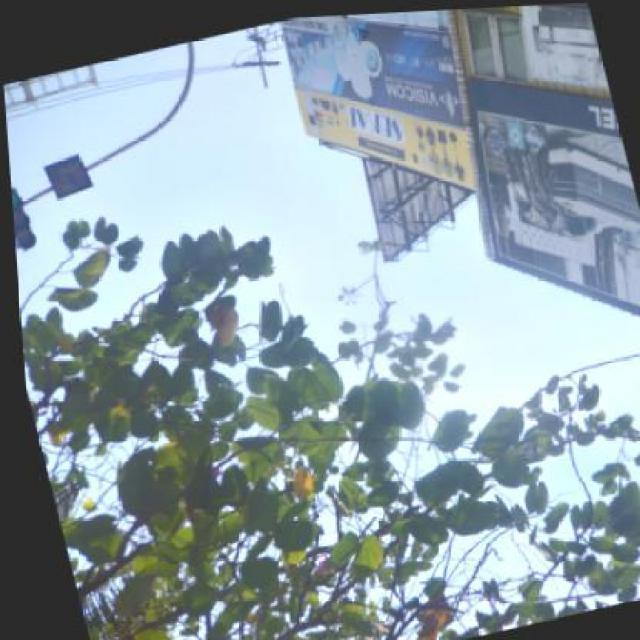green_light: (11, 187, 34, 247)
